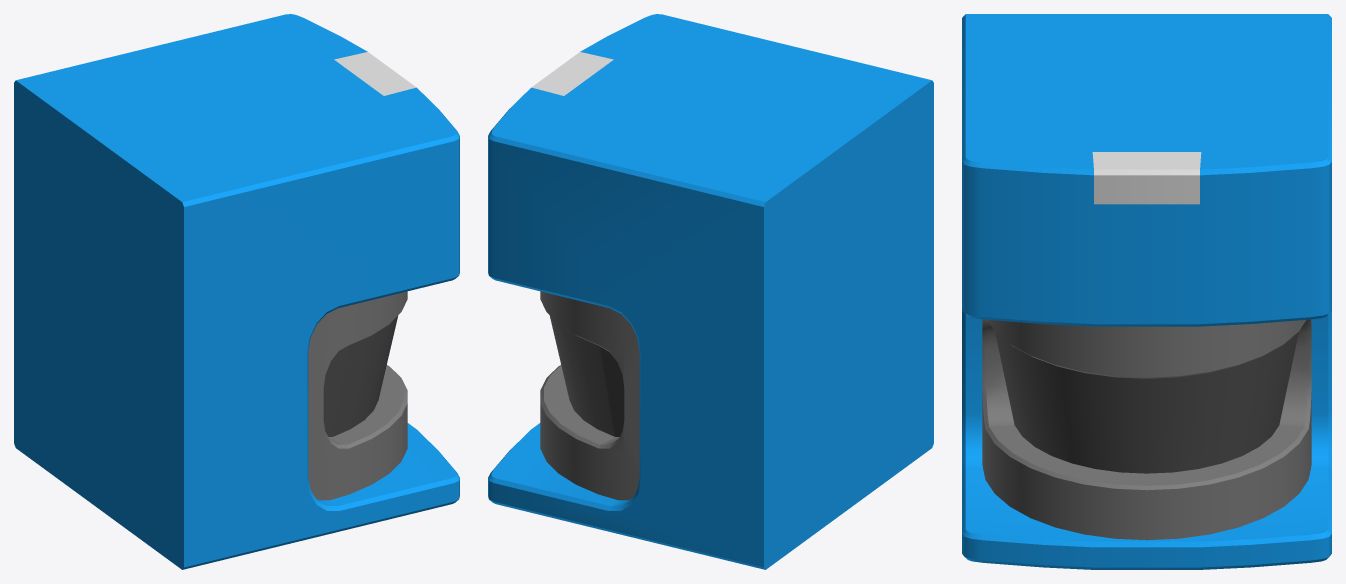
Rendered from robitFrontLidarVisual.dae.
3 views of the same model, side by side, from view 1: azimuth 30°, elevation 25°; view 2: azimuth 150°, elevation 25°; view 3: azimuth 270°, elevation 25° (orthographic). The views are drawn at different scales.
Visible parts, largest first — view 1: Front Lidar; view 2: Front Lidar; view 3: Front Lidar.
Part boxes in pixels (x1,y1,x2,y2): Front Lidar: (14,14,459,569); Front Lidar: (488,14,933,569); Front Lidar: (962,14,1331,569).
Bounding box in the file's own units: 0.156 × 0.155 × 0.185.
